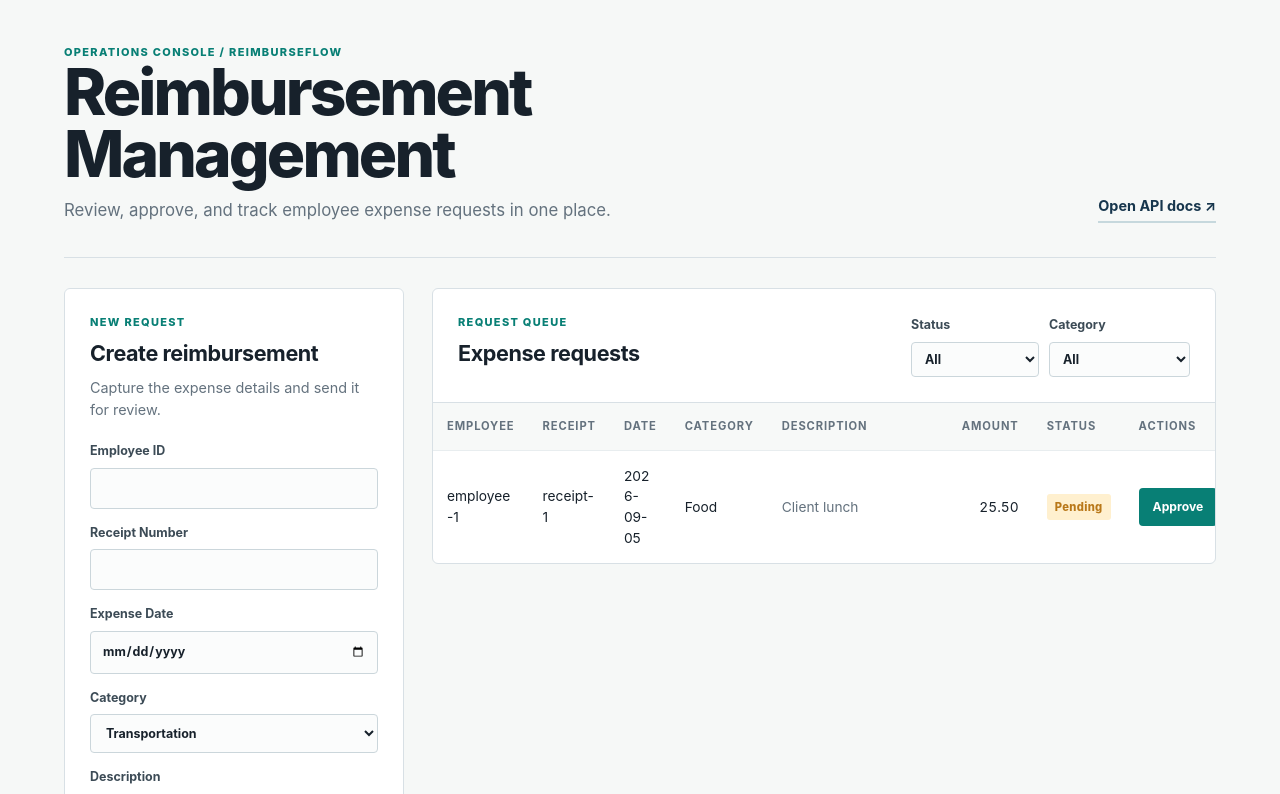
it: ReimbursementsPage › creates a reimbursement with an idempotency key
The image size is (1280, 794).
Expected: the text "employee-1" is shown, left=433, top=450, right=529, bottom=563
In the field labelled "Employee ID": x=234, y=488 left=90, top=468, right=378, bottom=509, type "employee-2"
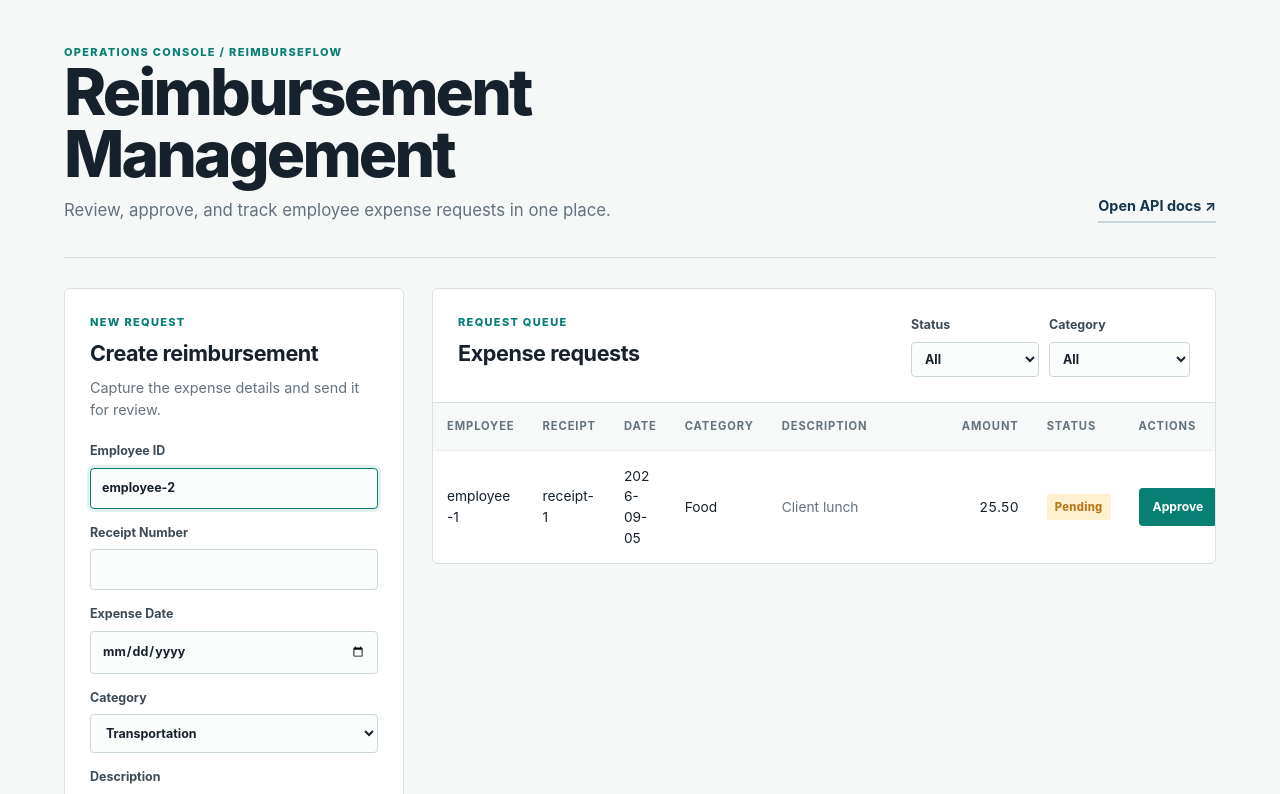
In the field labelled "Receipt Number": x=234, y=570 left=90, top=549, right=378, bottom=590, type "receipt-2"
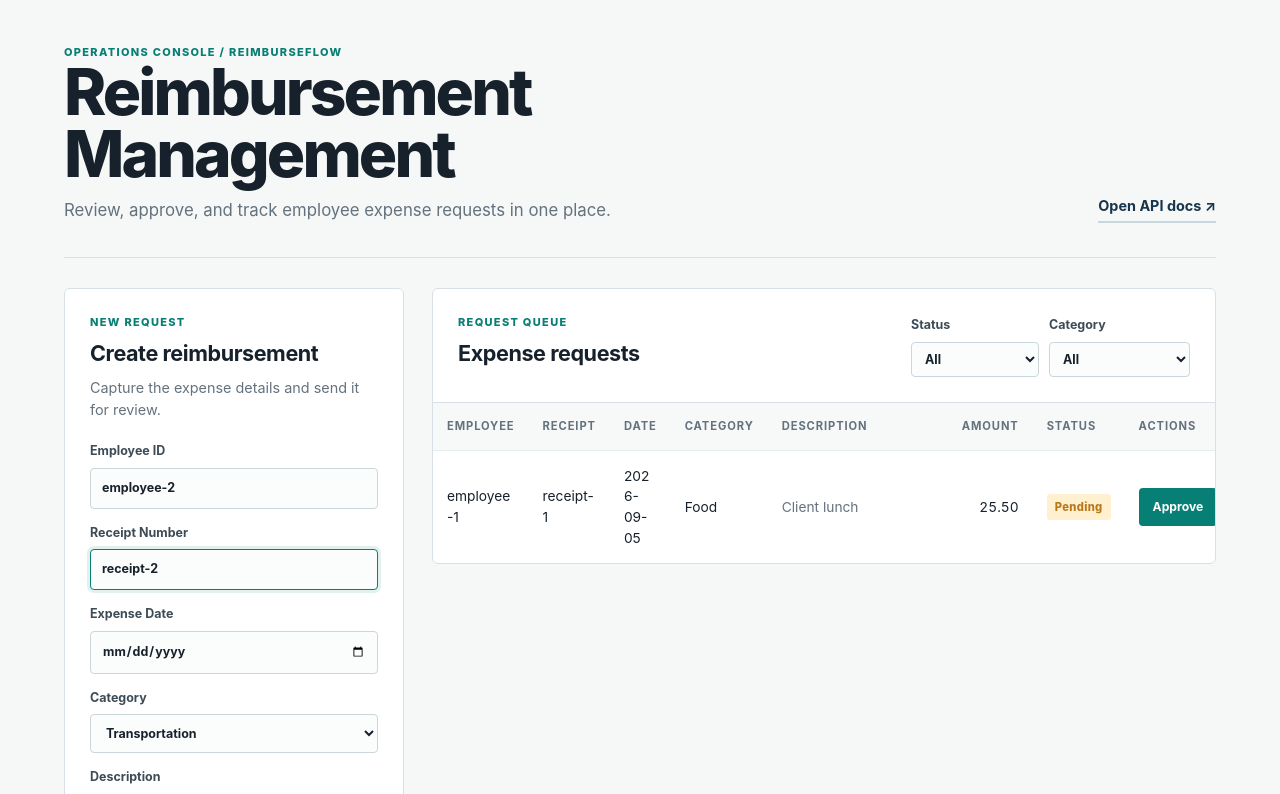
In the date field labelled "Expense Date": x=234, y=652 left=90, top=631, right=378, bottom=674, type "2026-09-05"
(page scrolled)
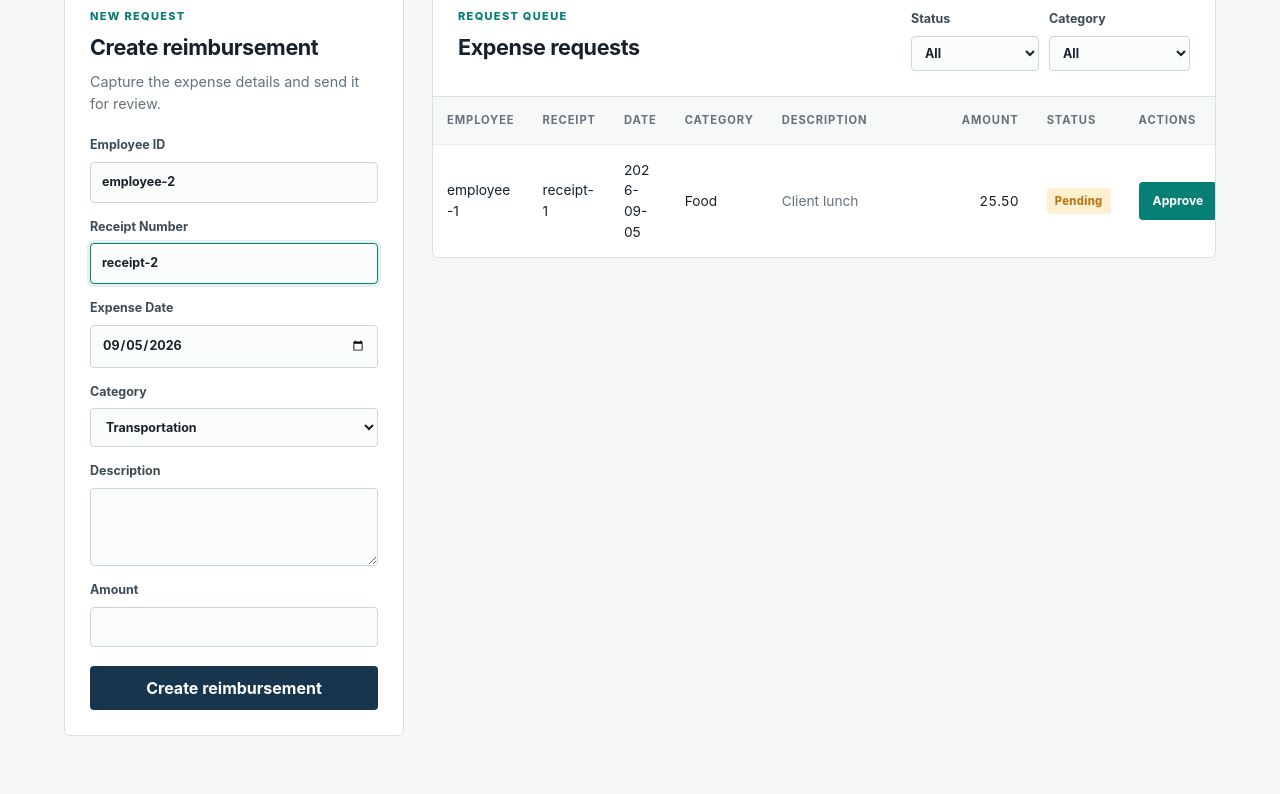
In the text box labelled "Description": x=234, y=527 left=90, top=488, right=378, bottom=566, type "Taxi"
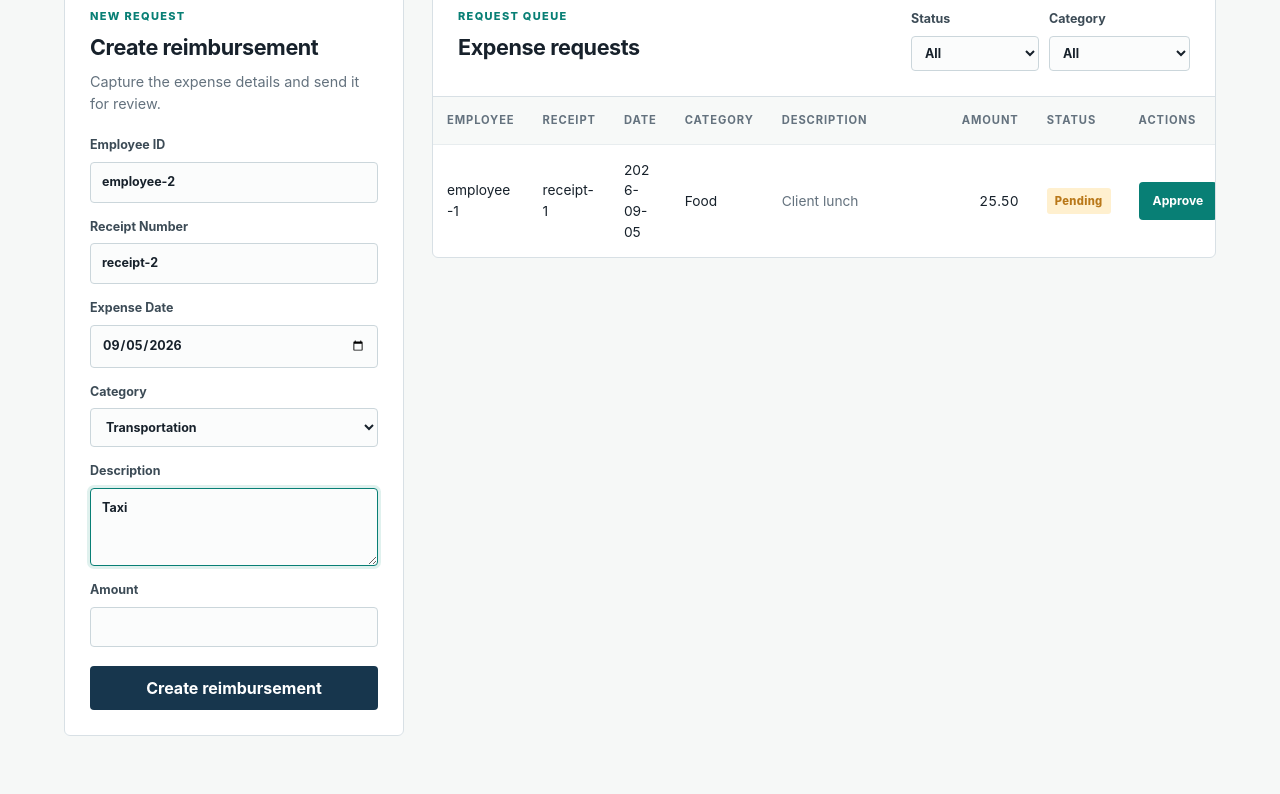
In the number field labelled "Amount": x=234, y=627 left=90, top=607, right=378, bottom=648, type "12"
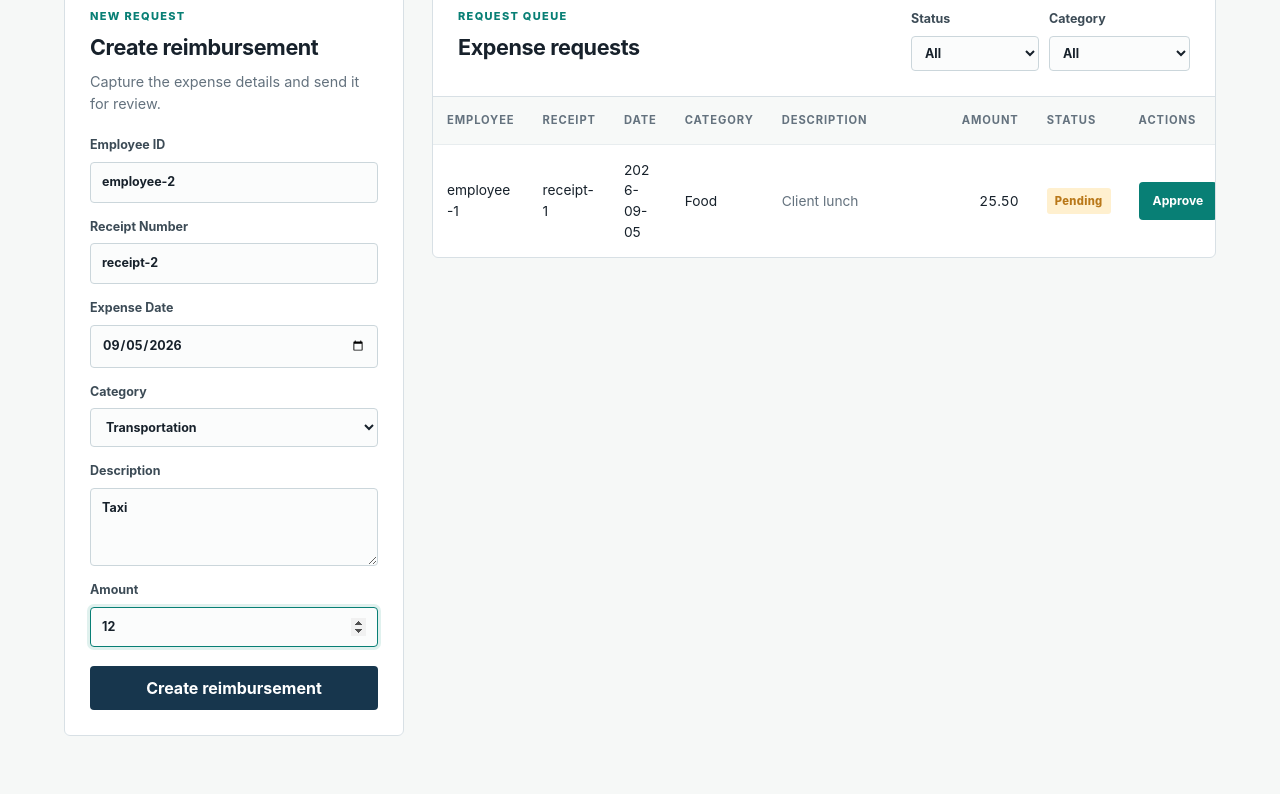
Click the button "Create reimbursement": x=234, y=688 left=90, top=666, right=378, bottom=710
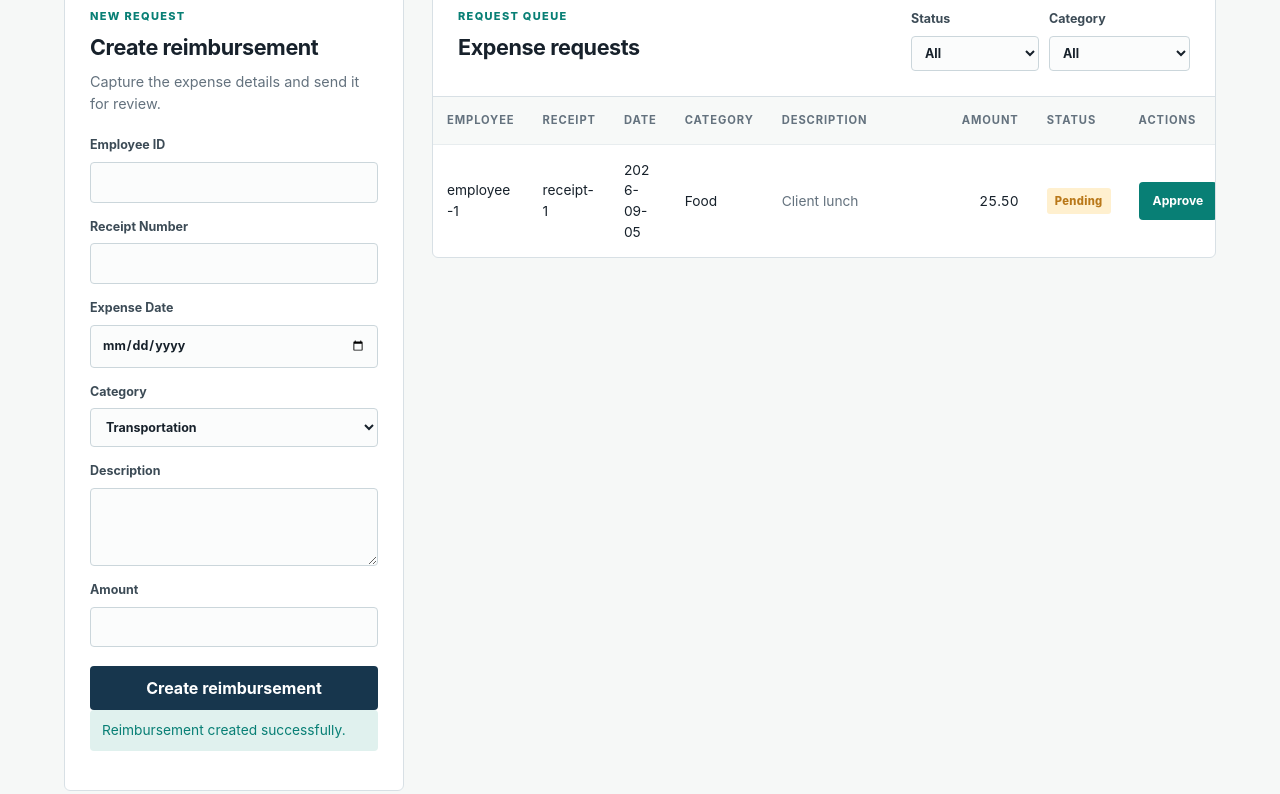
Result: the text "Reimbursement created successfully." is shown at left=90, top=710, right=378, bottom=751
